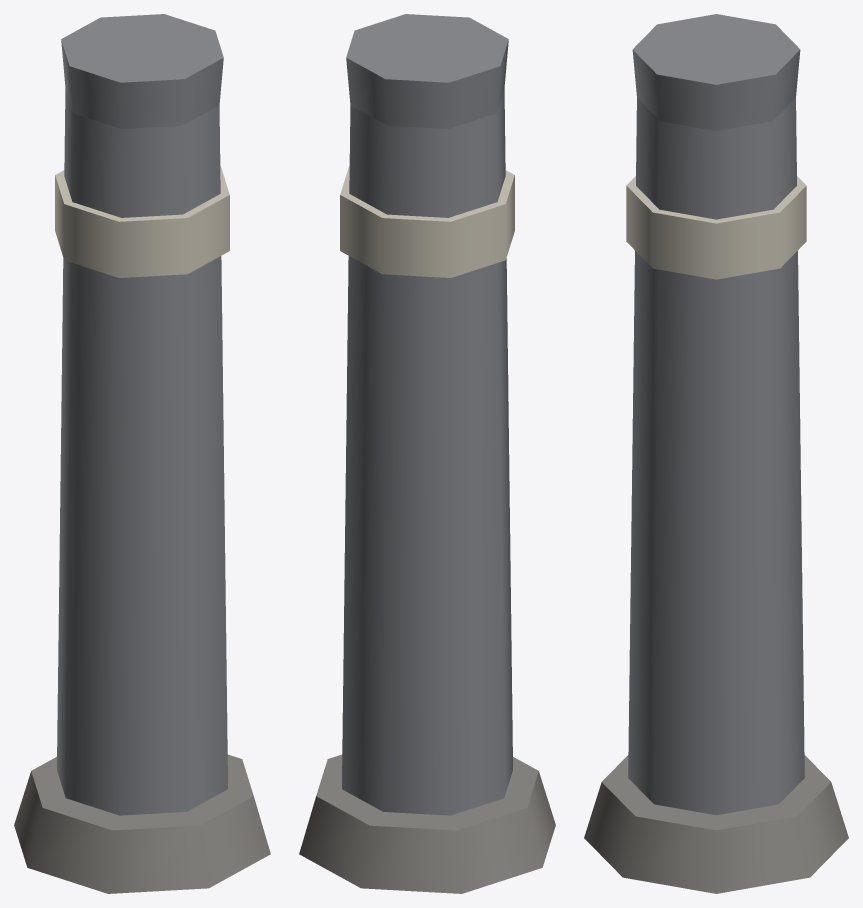
The model's file is PRP_H_Bollard_Wet_A.obj.
3 renders of one model, left to right at view 1: azimuth 30°, elevation 25°; view 2: azimuth 150°, elevation 25°; view 3: azimuth 270°, elevation 25°, orthographic.
Parts seen in each view (by area): view 1: shaft, base_ring, cap, band_reflective; view 2: shaft, base_ring, cap, band_reflective; view 3: shaft, base_ring, cap, band_reflective.
Boxes of the visible parts, x1,y1,x2,y2 form: shaft: [57, 88, 227, 815]; base_ring: [14, 754, 270, 893]; cap: [61, 14, 223, 128]; band_reflective: [55, 166, 229, 277]; shaft: [342, 88, 512, 815]; base_ring: [299, 754, 555, 893]; cap: [346, 14, 508, 128]; band_reflective: [340, 166, 514, 277]; shaft: [628, 98, 804, 815]; base_ring: [584, 755, 848, 893]; cap: [632, 14, 800, 130]; band_reflective: [626, 176, 806, 279].
Bounding box in the file's own units: 0.3 × 0.985 × 0.3.
